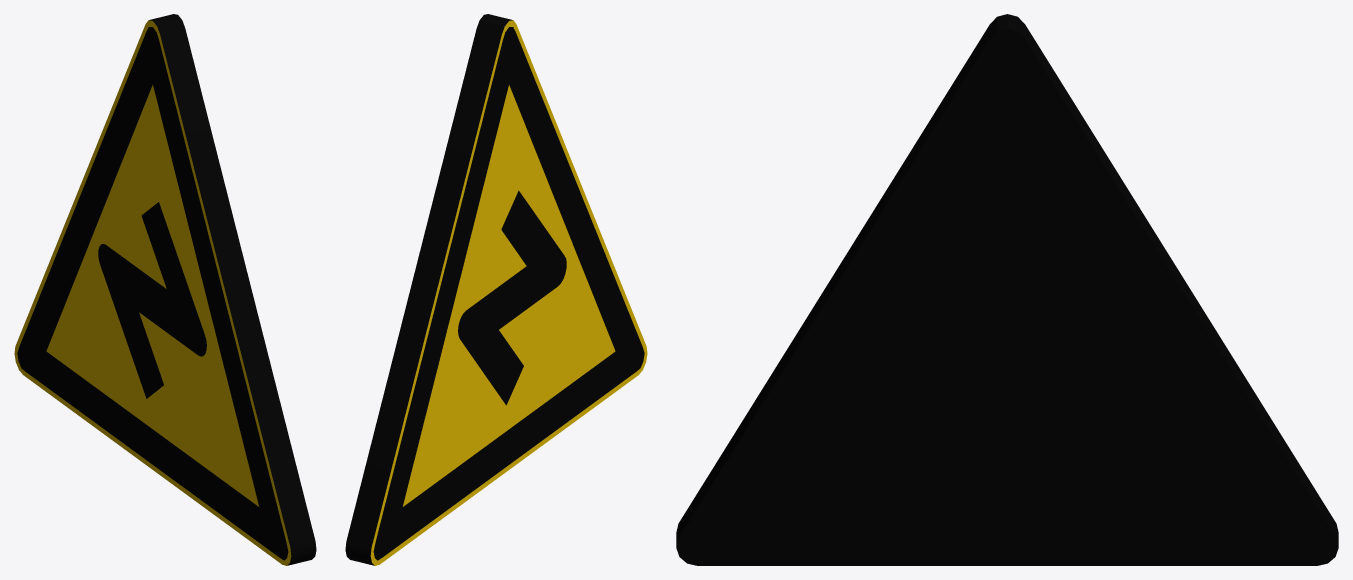
The model's file is Reverse_Detour_Left.fbx.
3 renders of one model, left to right at view 1: azimuth 30°, elevation 25°; view 2: azimuth 150°, elevation 25°; view 3: azimuth 270°, elevation 25°, orthographic. The views are drawn at different scales.
Parts seen in each view (by area): view 1: Reverse_Detour_Left; view 2: Reverse_Detour_Left; view 3: Reverse_Detour_Left.
Part boxes in pixels (bbox=[...]): Reverse_Detour_Left: bbox=[14, 14, 316, 565]; Reverse_Detour_Left: bbox=[345, 14, 647, 565]; Reverse_Detour_Left: bbox=[676, 14, 1338, 565].
Bounding box in the file's own units: 0.0643 × 1.02 × 1.14.
